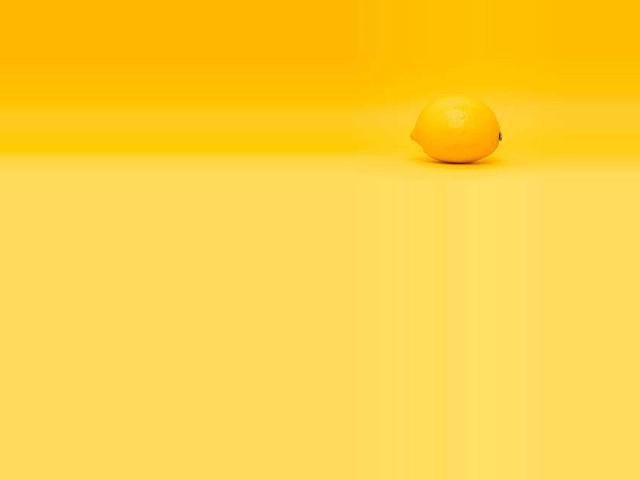lemon: (395, 91, 507, 167)
